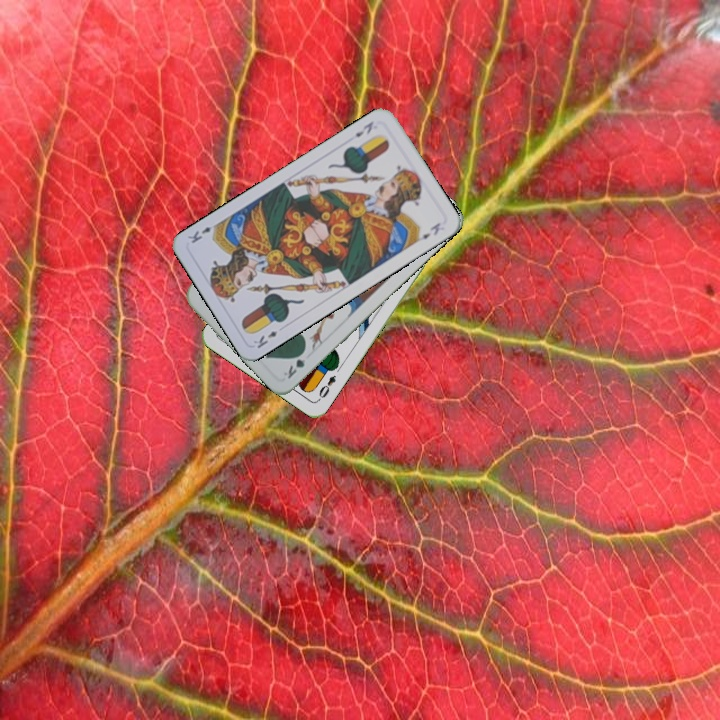EK: (249, 327, 280, 351), (351, 117, 376, 140)
EO: (314, 371, 338, 403)
GK: (279, 346, 308, 382)
